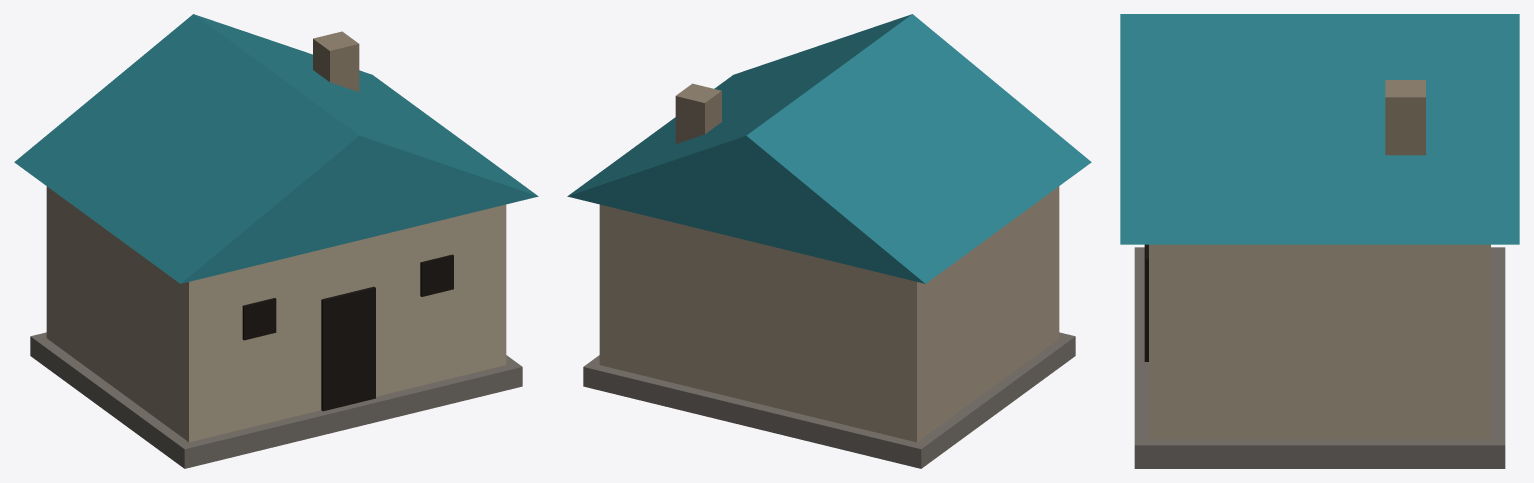
Rendered from house_a.glb.
3 renders of one model, left to right at view 1: azimuth 30°, elevation 25°; view 2: azimuth 150°, elevation 25°; view 3: azimuth 270°, elevation 25°, orthographic. The views are drawn at different scales.
Visible parts, largest first — view 1: house_a; view 2: house_a; view 3: house_a.
Part boxes in pixels (left/top/right/bottom): house_a: left=14, top=14, right=538, bottom=468; house_a: left=567, top=14, right=1091, bottom=468; house_a: left=1120, top=14, right=1519, bottom=468.
Size of the model in its own units: 6.1 by 4.82 by 4.9.
